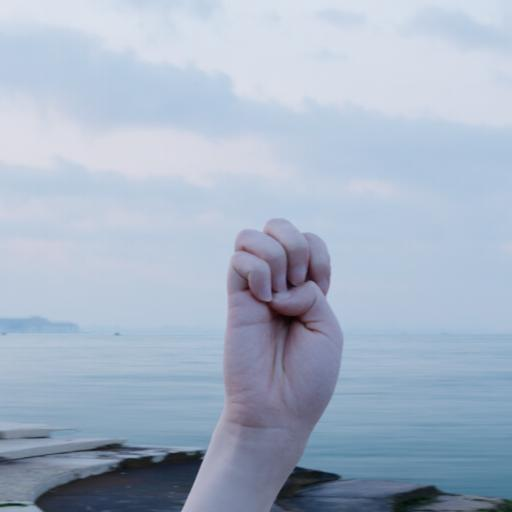E: (201, 201, 365, 511)
